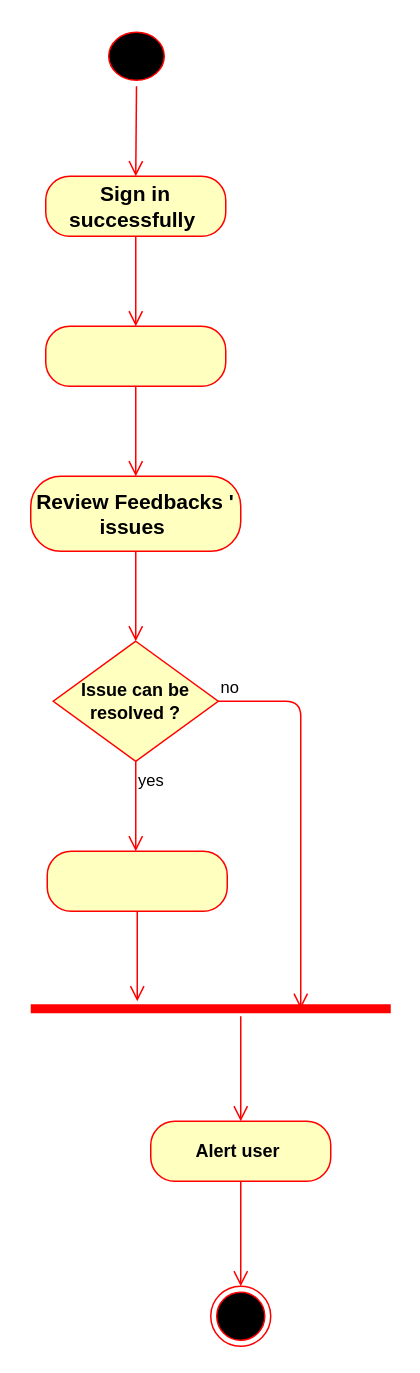
This 420x1373 diagram has some shape labels left out. Each missing label, with the centre of its shape:
"Access Database" belongs at pixel 135 355.
"Resolve issue" belongs at pixel 136 880.
